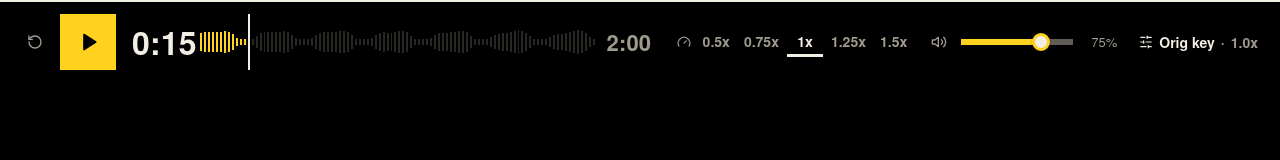
Test case: TransportDock › Master volume & mute › smart unmutes and restores the previous non-zero volume
Click the button named "mute audio" at (939, 42), box x1=921 y1=24 x2=957 y2=60
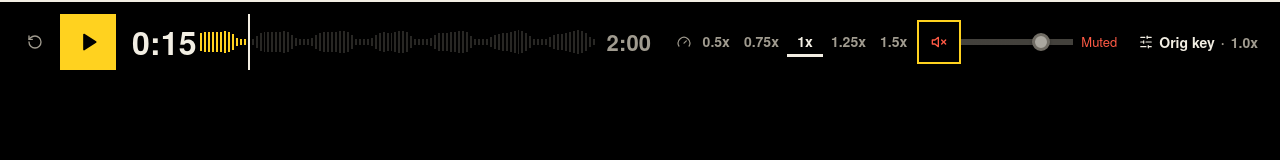
Click the button named "unmute audio" at (939, 42), box x1=921 y1=24 x2=957 y2=60
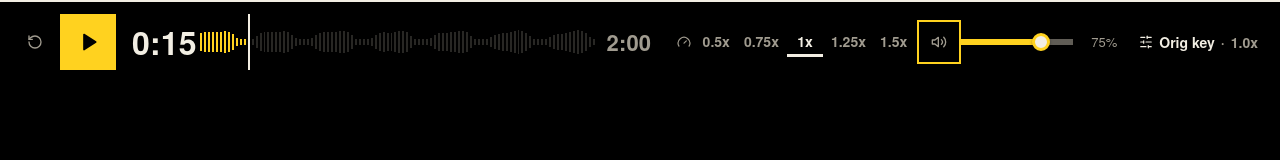
Expected: the text "75%" is shown, x1=1091 y1=32 x2=1117 y2=51
